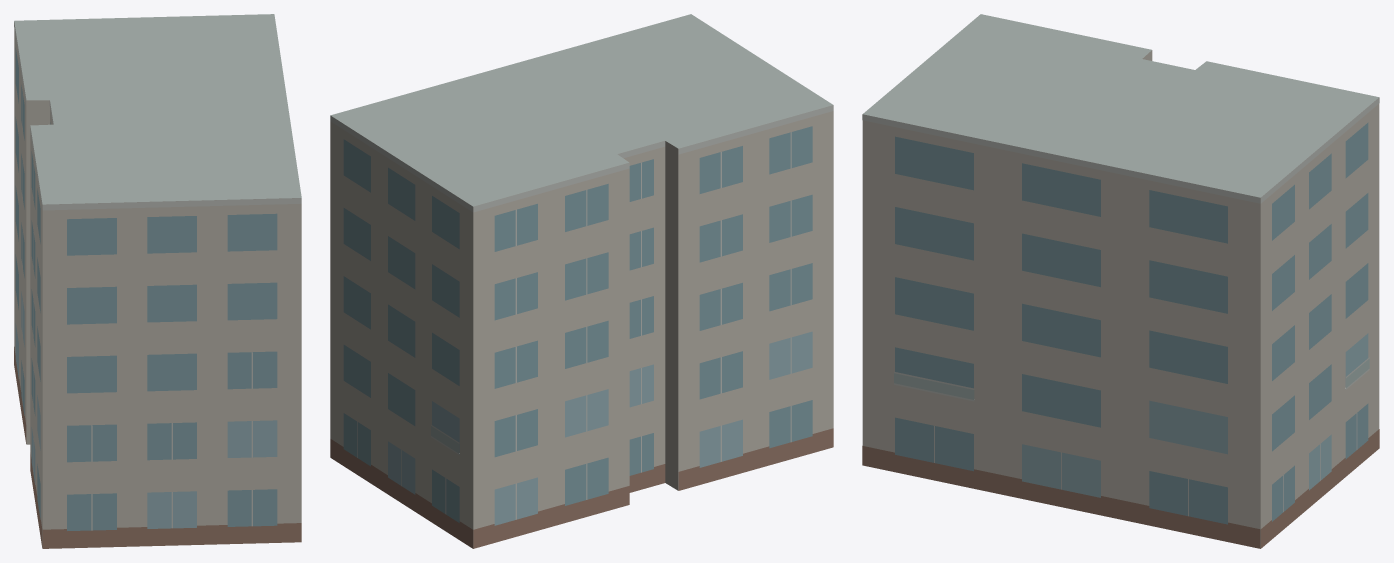
Rendered from survey-upis-32891284.glb.
3 views of the same model, side by side, from view 1: azimuth 30°, elevation 25°; view 2: azimuth 150°, elevation 25°; view 3: azimuth 270°, elevation 25° (orthographic). The views are drawn at different scales.
Visible parts, largest first — view 1: survey-upis-32891284.tmp; view 2: survey-upis-32891284.tmp; view 3: survey-upis-32891284.tmp.
Part boxes in pixels (box(x1,y1,x2,y2)): survey-upis-32891284.tmp: box(14, 14, 301, 548); survey-upis-32891284.tmp: box(330, 14, 833, 548); survey-upis-32891284.tmp: box(862, 14, 1379, 548).
Size of the model in its own units: 15.94 by 14.2 by 18.95.
